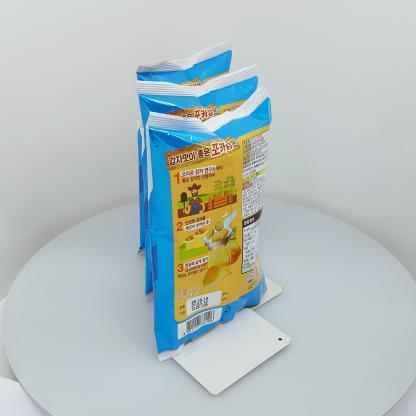Plastic Packaging: (122, 40, 278, 359)
